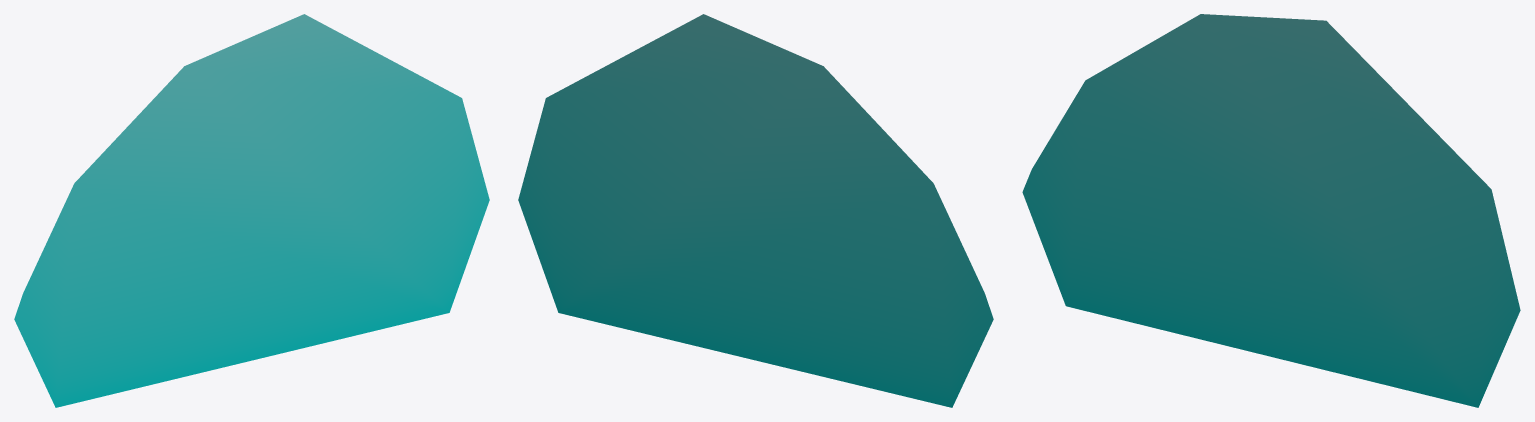
Rendered from Nordic_Coastal_Groundcover_vlqkdeaja_Mid_vlqkdeaja_VarH_LOD4.fbx.
3 renders of one model, left to right at view 1: azimuth 30°, elevation 25°; view 2: azimuth 150°, elevation 25°; view 3: azimuth 330°, elevation 25°, orthographic. The views are drawn at different scales.
Parts seen in each view (by area): view 1: _vuoj_VarH_LOD6; view 2: _vuoj_VarH_LOD6; view 3: _vuoj_VarH_LOD6.
Boxes of the visible parts, x1=… form: _vuoj_VarH_LOD6: x1=14, y1=14, x2=489, y2=407; _vuoj_VarH_LOD6: x1=518, y1=14, x2=993, y2=407; _vuoj_VarH_LOD6: x1=1022, y1=14, x2=1520, y2=407.
Size of the model in its own units: 130 by 87.63 by 0.
